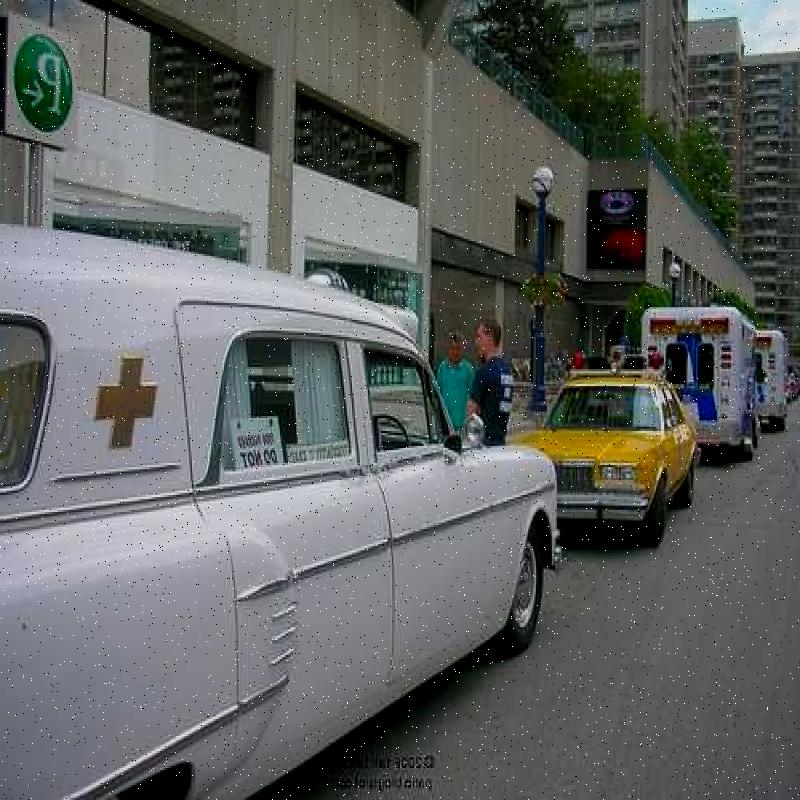AmbulanceSiren: (571, 340, 665, 384)
